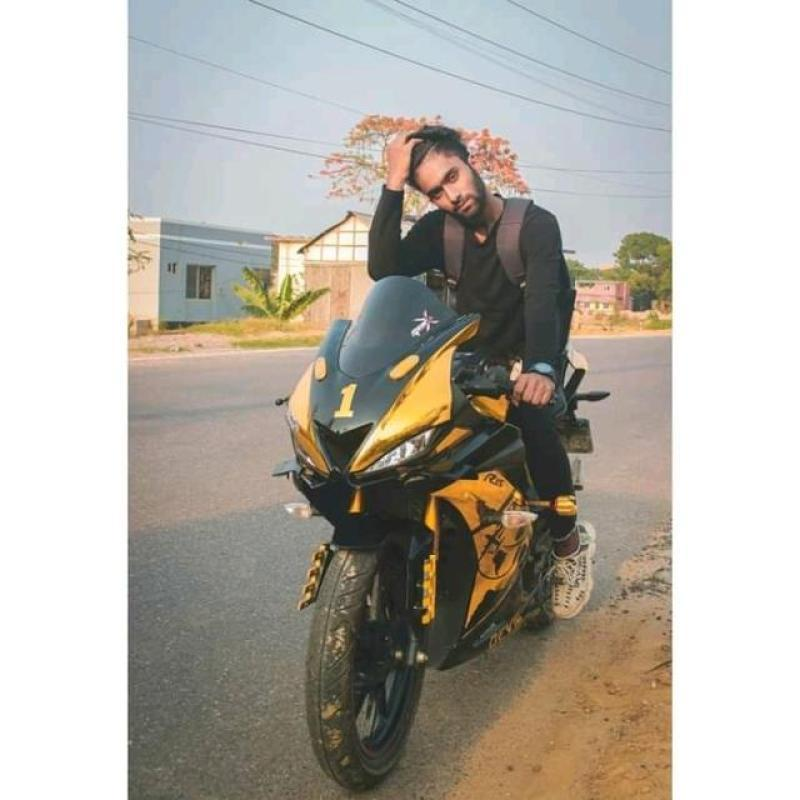nohelmet: (363, 134, 513, 232)
